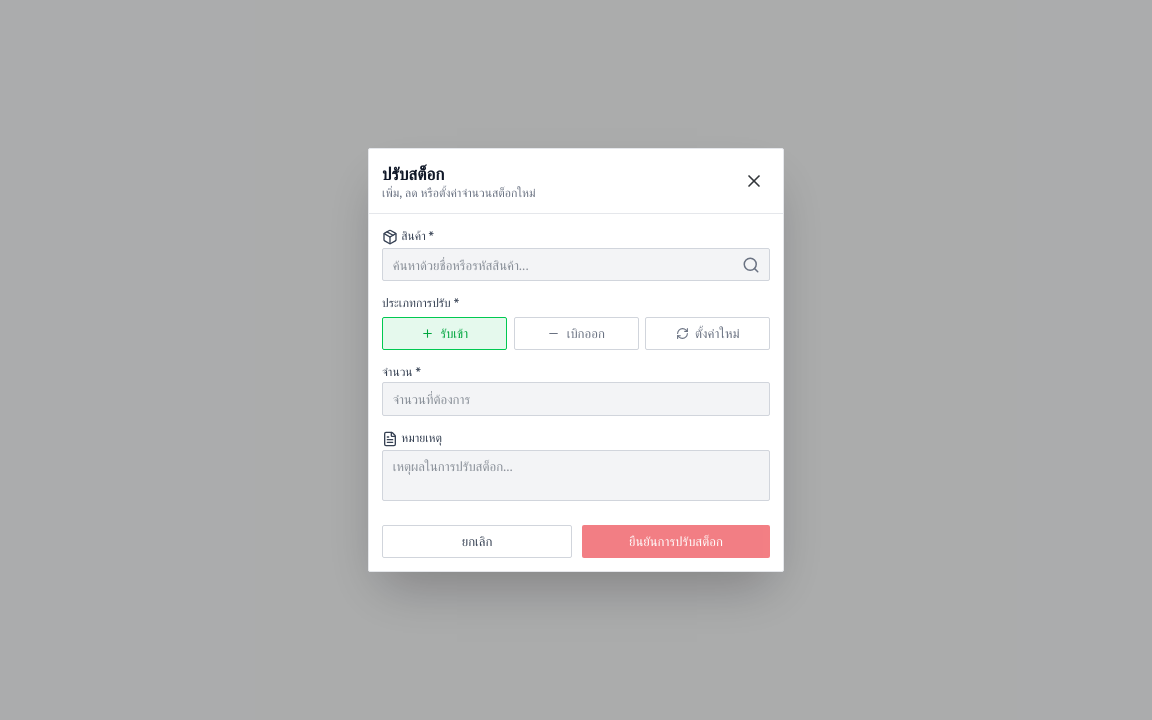
Test case: StockAdjustmentModal Component › Item Search Functionality › displays search results in dropdown
This screenshot has width=1152, height=720.
In the field with placeholder "ค้นหาด้วยชื่อหรือรหัสสินค้า...": coordinates (576, 265) [382,248,770,281], type "น้ำ"
Wait 300 ms
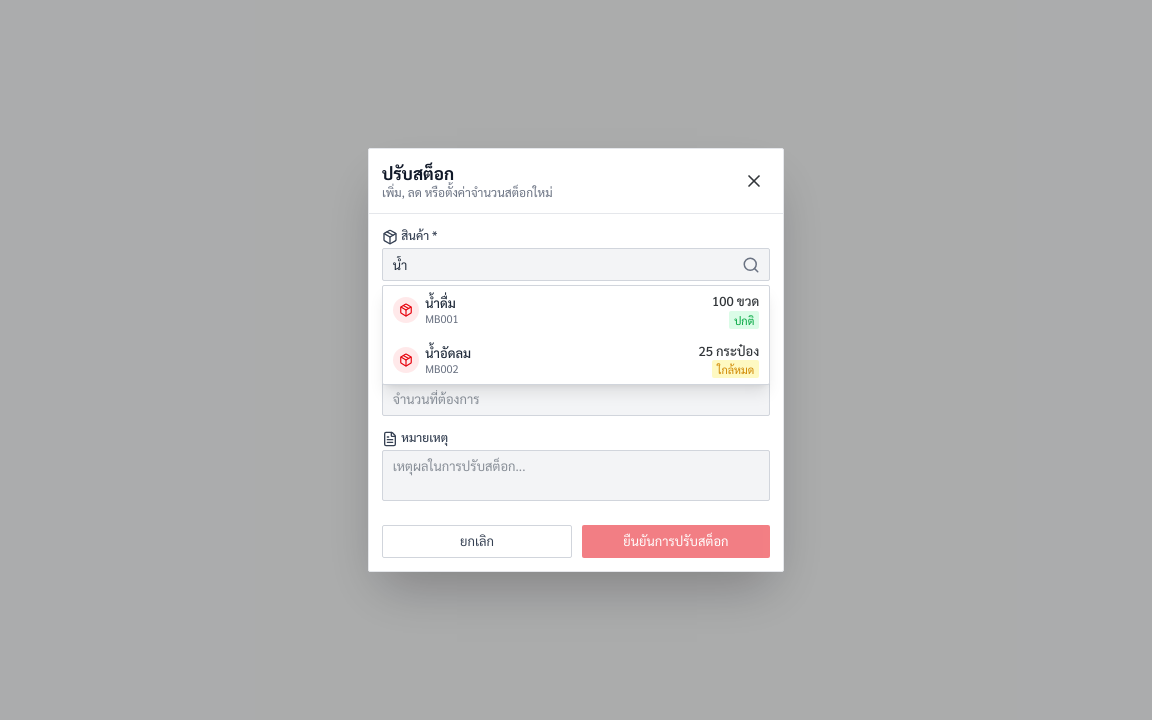
Expected: the text "น้ำดื่ม" is shown, [425,294,459,312]
Expected: the text "น้ำอัดลม" is shown, [425,344,471,362]
